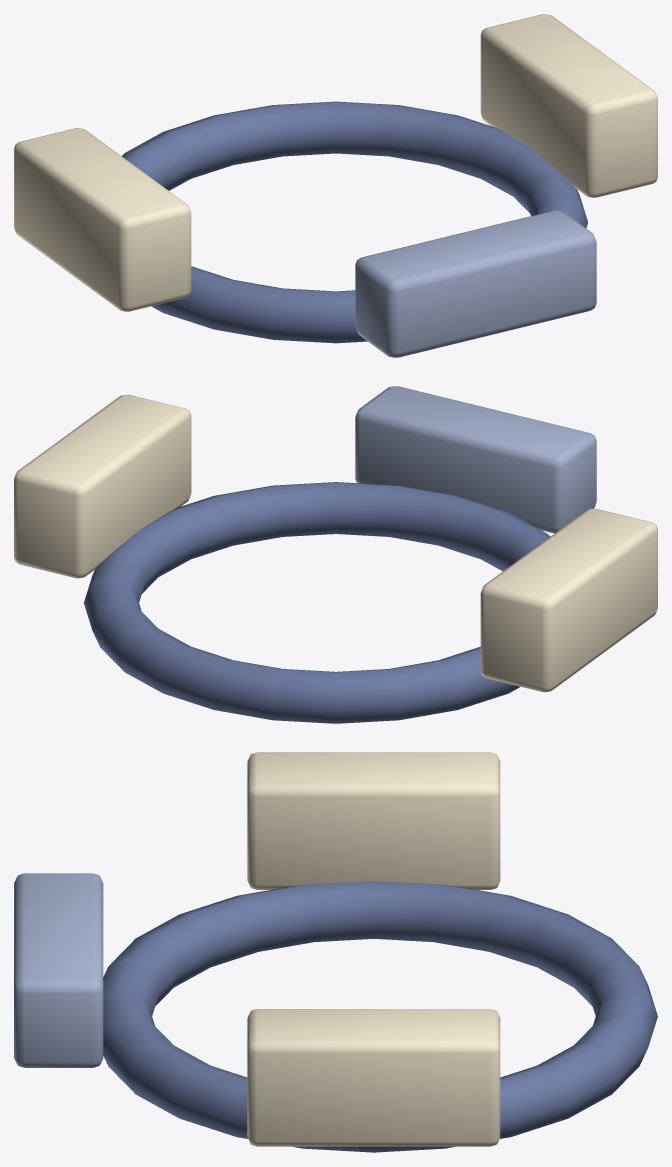
Rendered from r063_kart_kart_world_overall_kart_world.glb.
The picture shows the model from 3 angles, top to bottom: view 1: azimuth 30°, elevation 25°; view 2: azimuth 150°, elevation 25°; view 3: azimuth 270°, elevation 25°; orthographic projection. The views are drawn at different scales.
Visible parts, largest first — view 1: r063_kart_kart_world_overall_kart_world.001; view 2: r063_kart_kart_world_overall_kart_world.001; view 3: r063_kart_kart_world_overall_kart_world.001.
Part boxes in pixels (x1,y1,x2,y2): r063_kart_kart_world_overall_kart_world.001: (14,14,657,357); r063_kart_kart_world_overall_kart_world.001: (14,386,657,723); r063_kart_kart_world_overall_kart_world.001: (14,752,657,1152).
Size of the model in its own units: 18 by 4.2 by 16.55.
